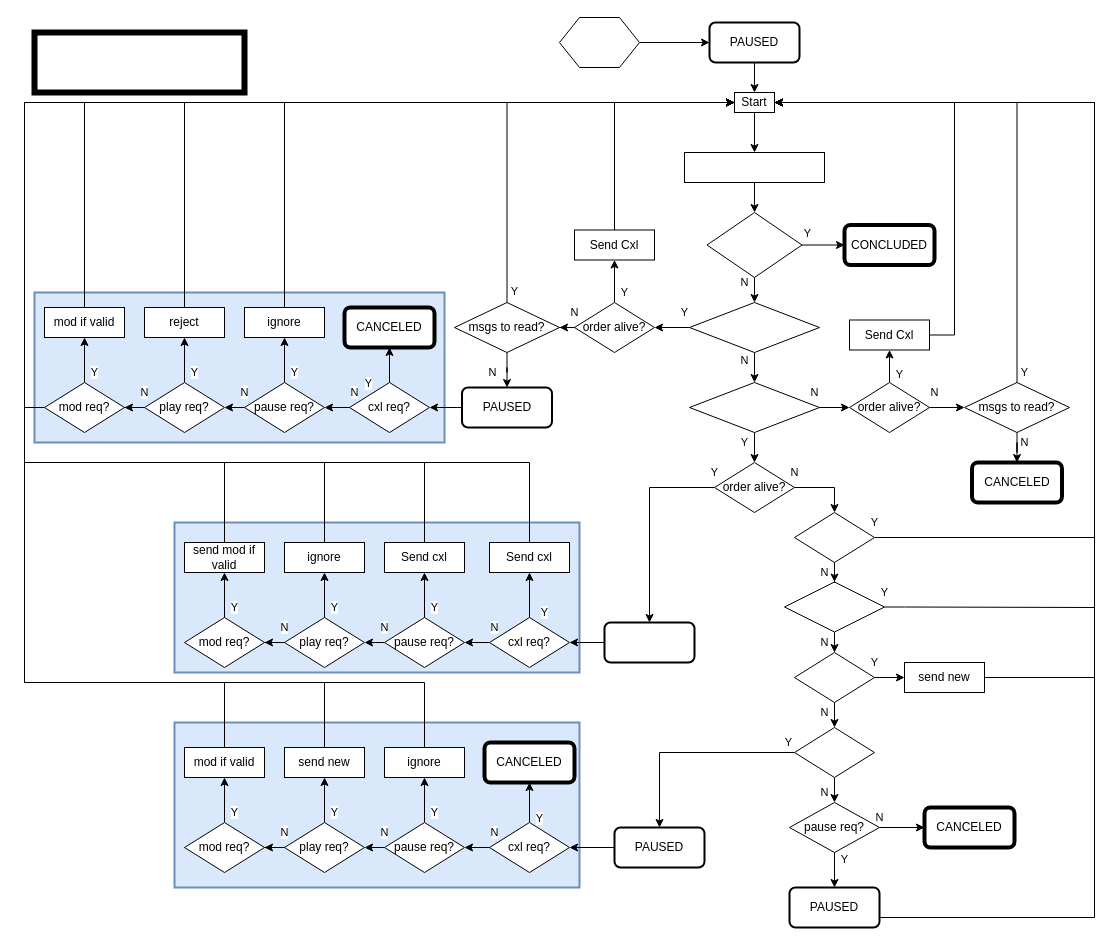
Some shapes in this 1120 by 946 pixel diagram are drawn without their labels. The centre of each missing label's shape, as x and y in pixels:
"Constructor" belongs at point (599, 42).
"CumQty >= OrdQty ?" belongs at point (754, 245).
"filled?" belongs at point (834, 537).
"first run?" belongs at point (834, 677).
"order pending?" belongs at point (834, 606).
"paused?" belongs at point (834, 752).
"PLAYING" belongs at point (649, 642).
"read msg queue" belongs at point (754, 167).
"SINGLE ORDER" belongs at point (139, 62).
"time < EndTime" belongs at point (754, 407).
"time < StartTime" belongs at point (754, 327).
